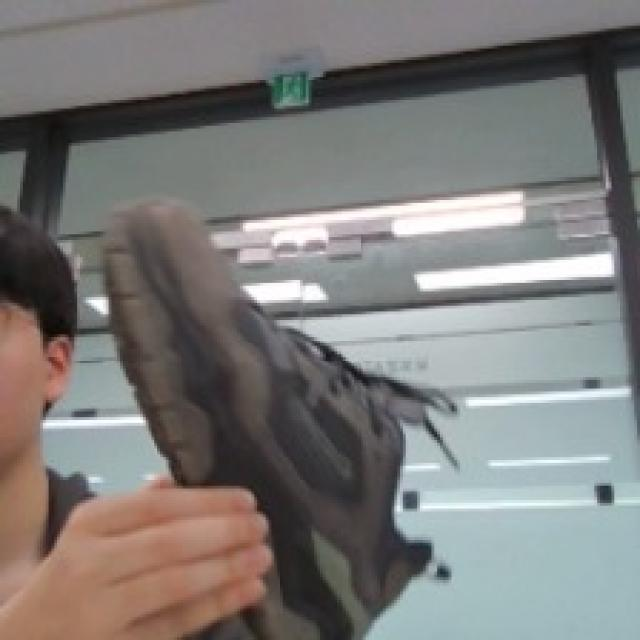shoe: (87, 172, 470, 638)
